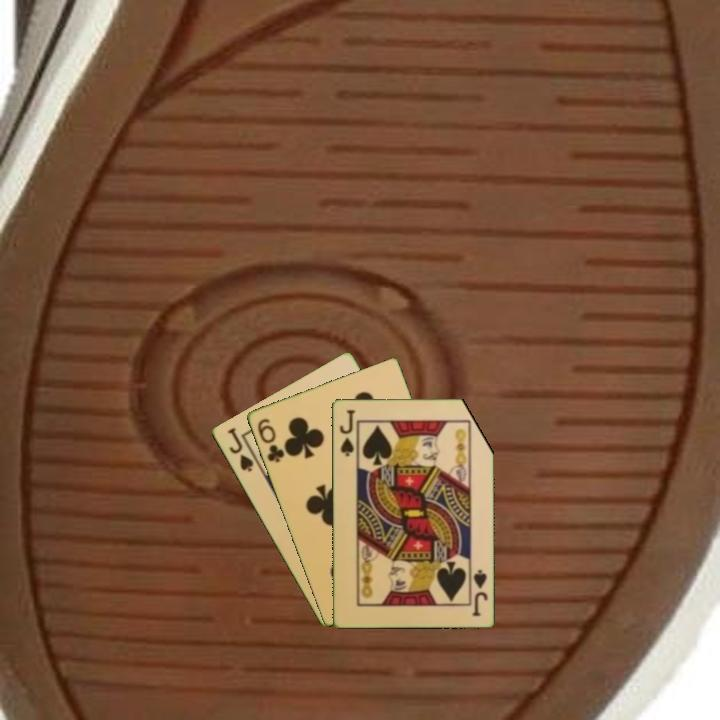6c: (254, 415, 287, 465)
Js: (223, 424, 256, 475), (336, 406, 358, 459), (468, 566, 490, 619)
